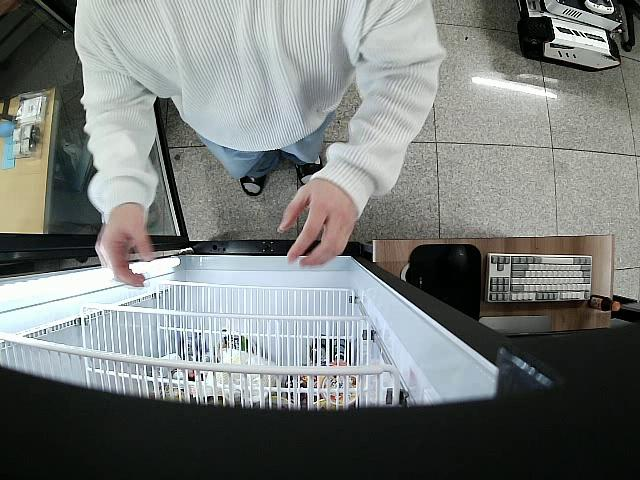00_hand: (278, 177, 357, 269), (94, 201, 155, 287)
